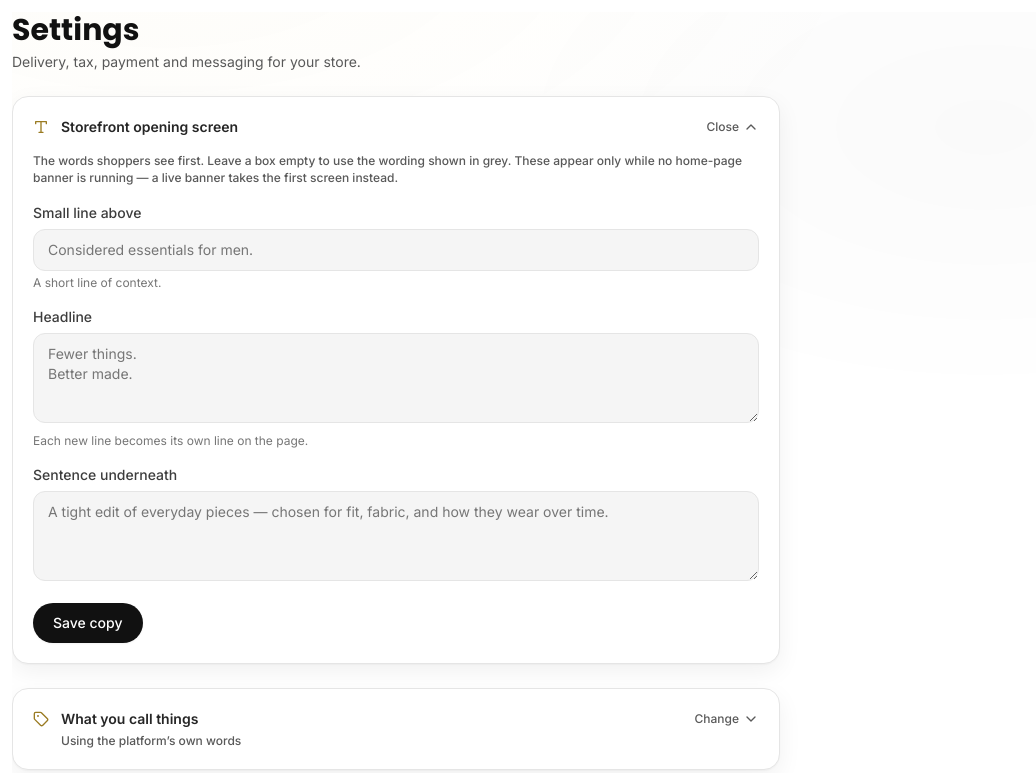
Test: the wording form › names both groups, and how much is in each, before either is opened
Click the text "What you call things" at (130, 719), box 61,709 -> 198,729
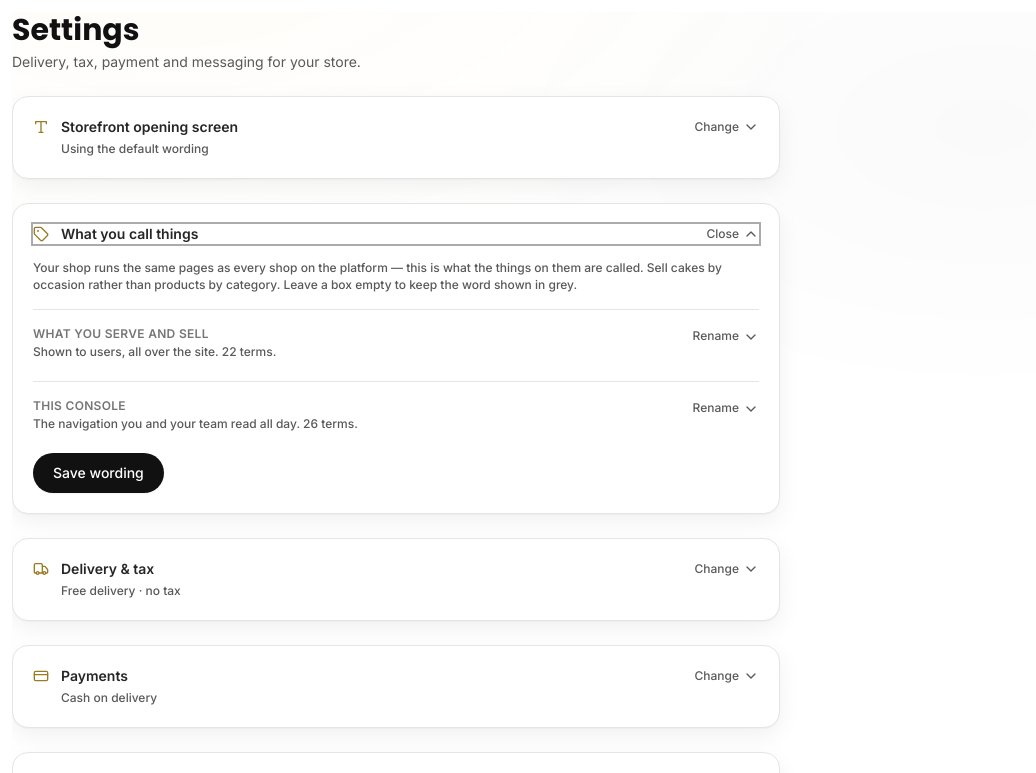
Now the text "What you serve and sell" is shown, box 33,326 -> 209,341
Now the text "This console" is shown, box 33,398 -> 126,413
Now the button "This console" reads "This console The navigation you and your team read all day. 26 terms. Rename", box 33,398 -> 759,433
